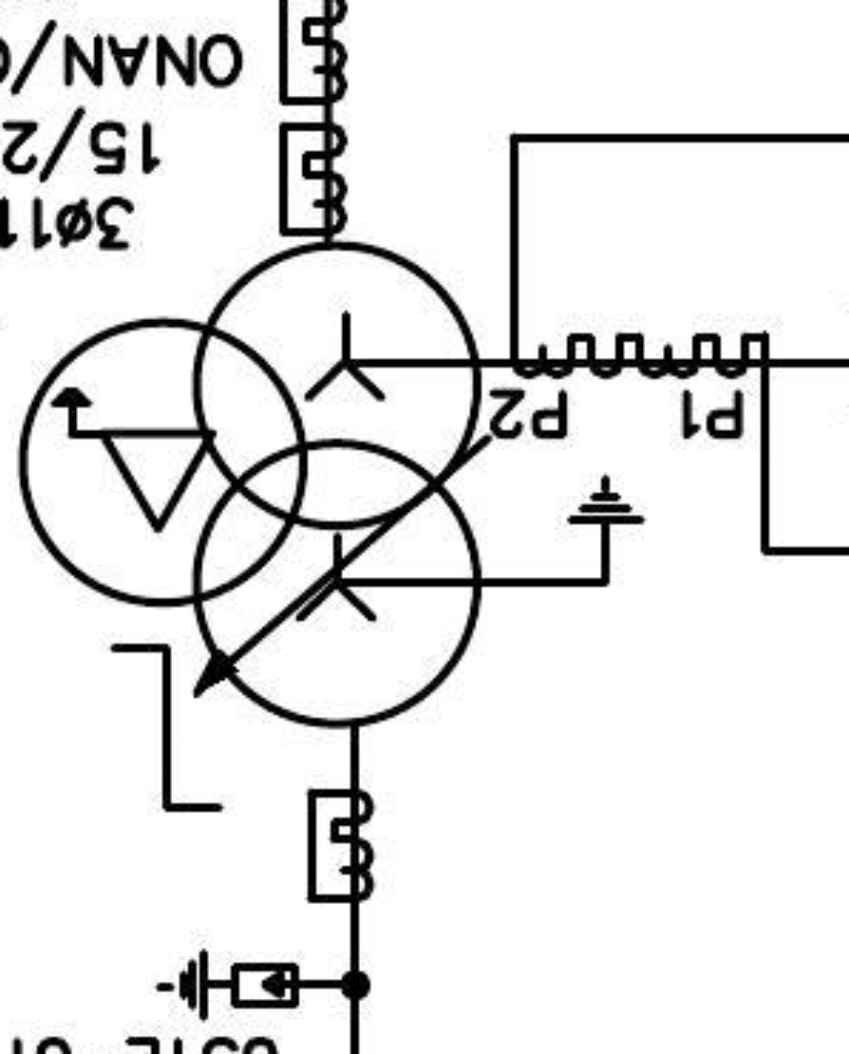11522_tx_ynyn0d1: (14, 238, 484, 731)
115_la: (155, 947, 302, 1024)
